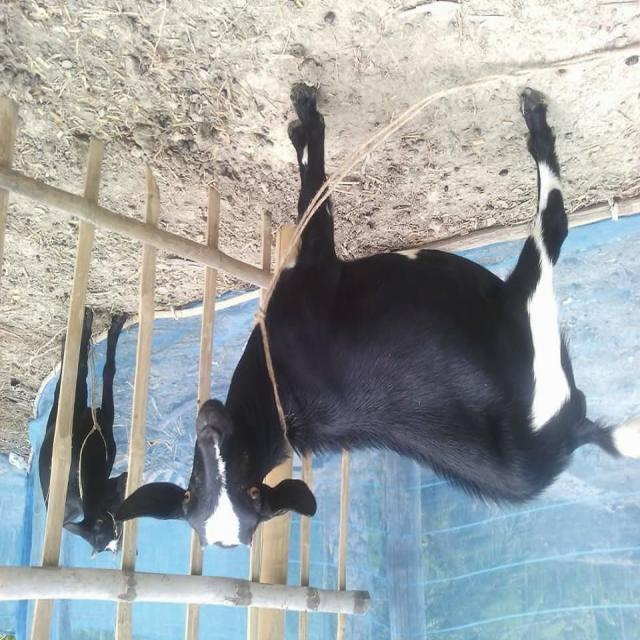Goat: (110, 83, 631, 555), (38, 307, 130, 561)
